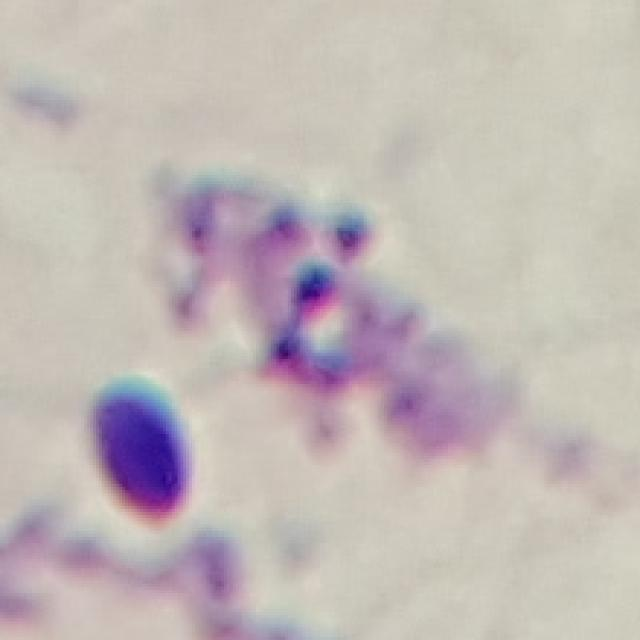non-sperm: (176, 162, 385, 390)
